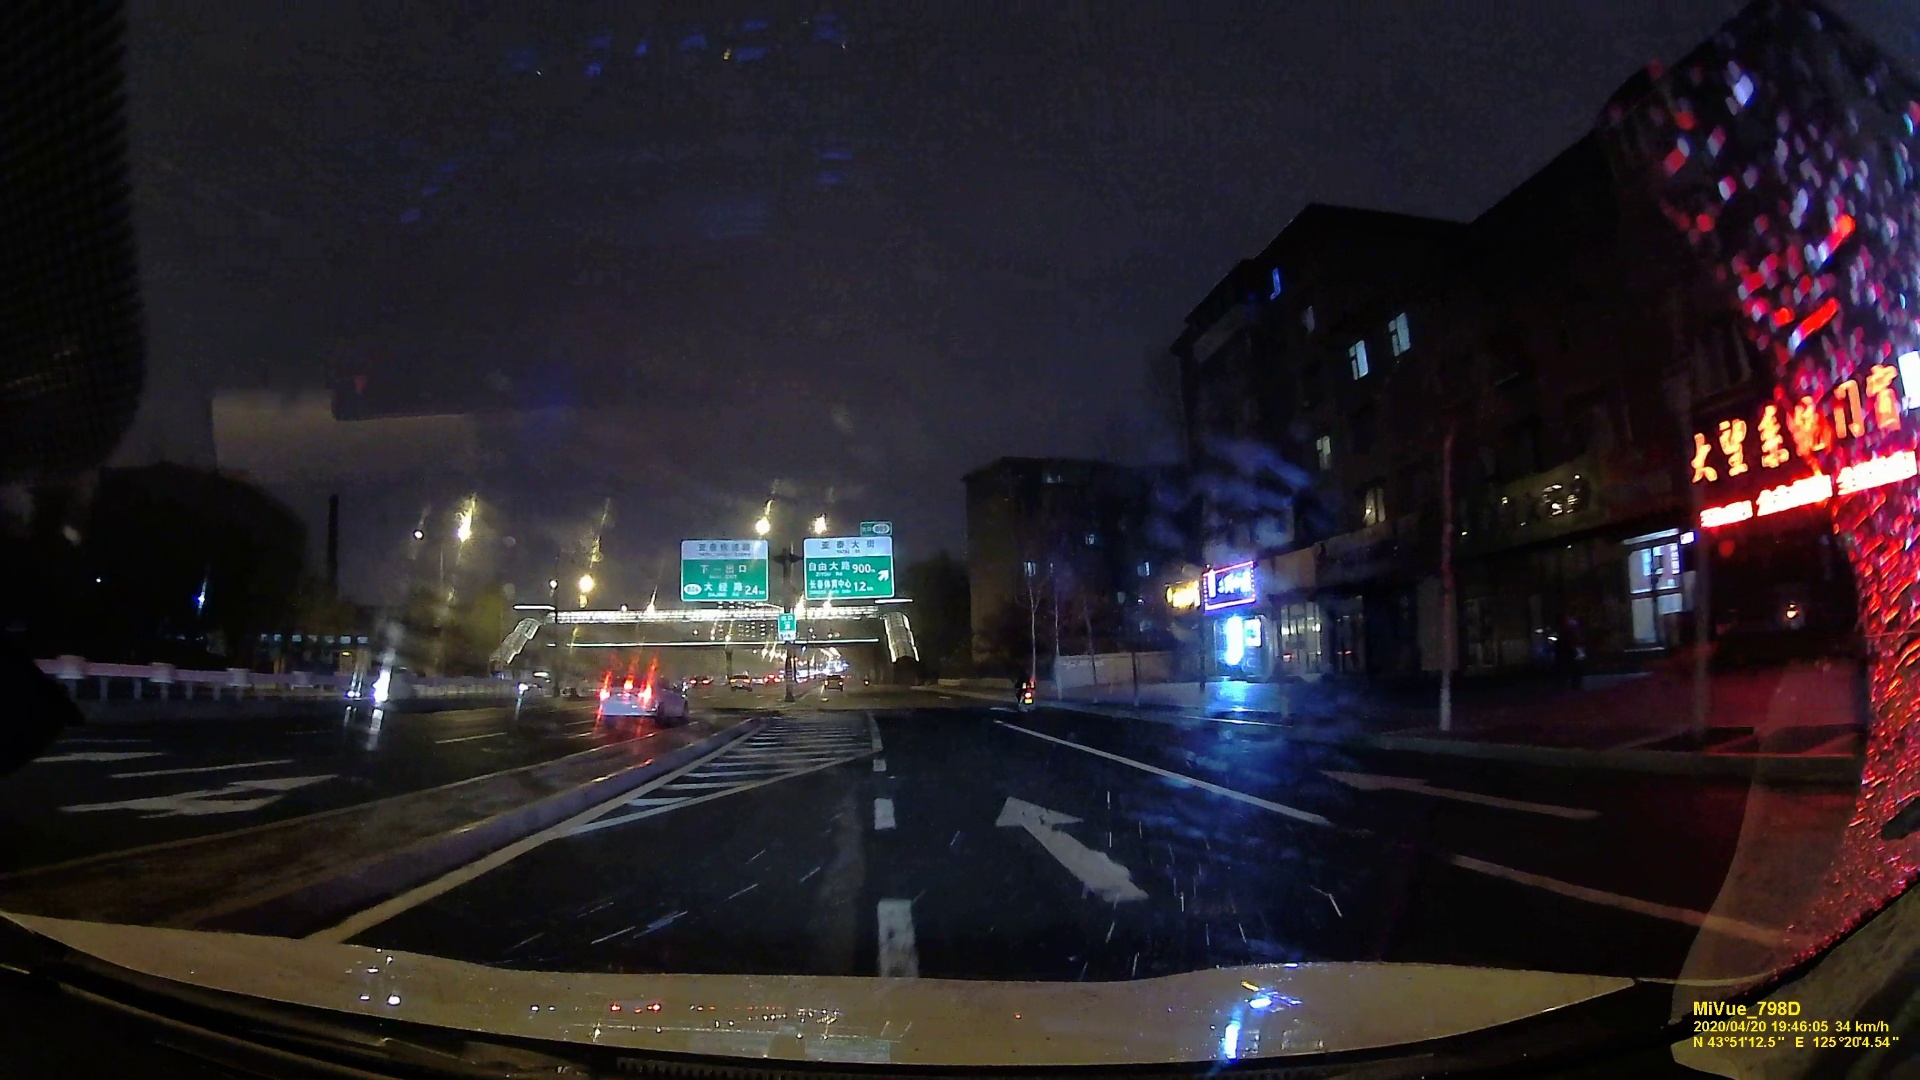person: (1014, 668, 1034, 691)
traffic_sign: (678, 540, 768, 601), (806, 536, 890, 599)
vehicle: (598, 676, 687, 727), (729, 672, 752, 693), (824, 672, 844, 690)
